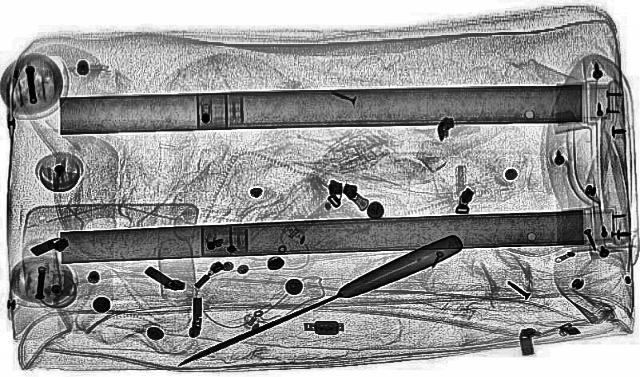Knife: (165, 234, 471, 372)
